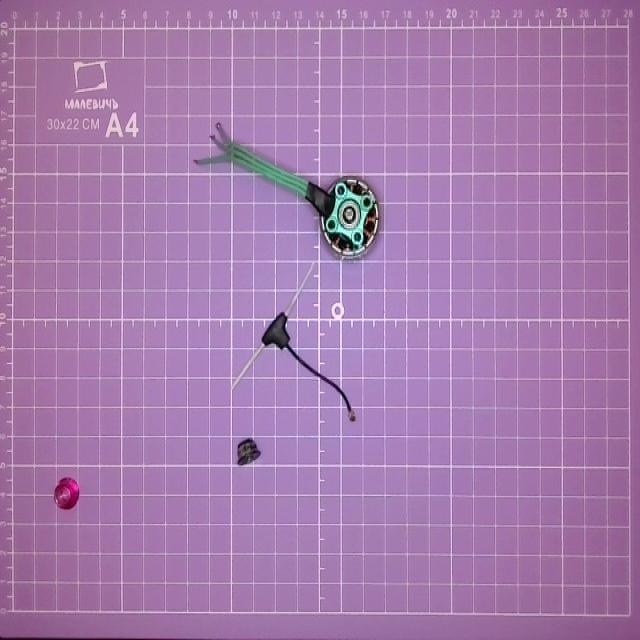antenna: (232, 257, 358, 423)
motor: (193, 121, 381, 262)
screw_M3: (328, 299, 347, 321)
screw_M5: (53, 472, 80, 515), (233, 434, 262, 470)
